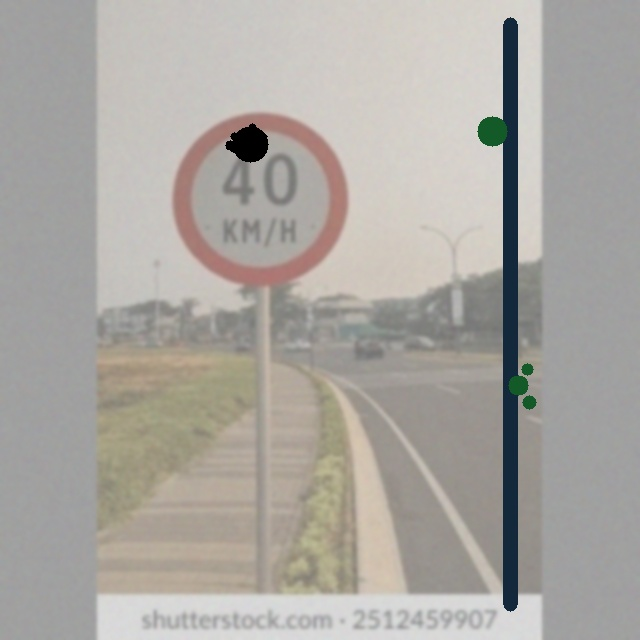Speed_Limit_40: (178, 111, 350, 285)
